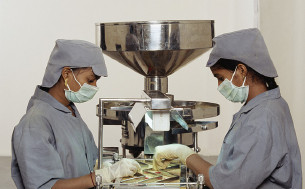face_mask: (64, 65, 103, 104), (210, 64, 248, 103)
